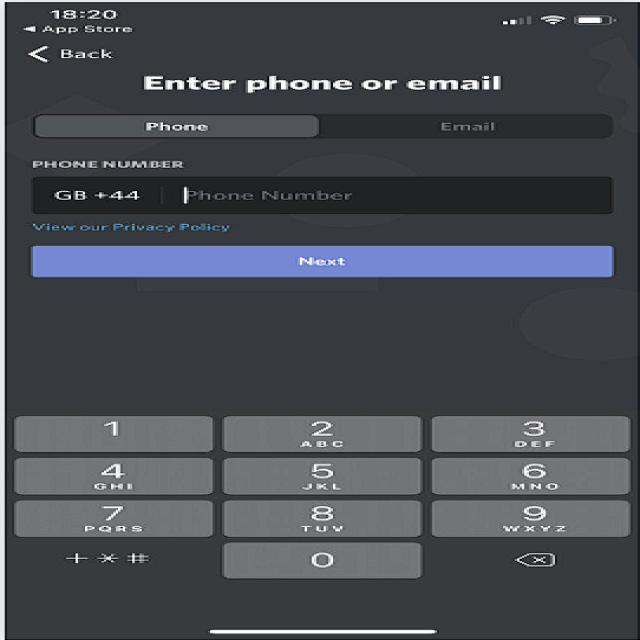button: (9, 234, 621, 292), (18, 106, 328, 143)
icon button: (9, 40, 151, 64)
input: (9, 149, 626, 219)
text: (128, 69, 588, 100)
